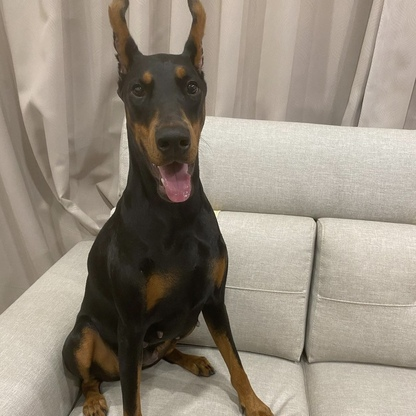doberman: (94, 7, 274, 414)
